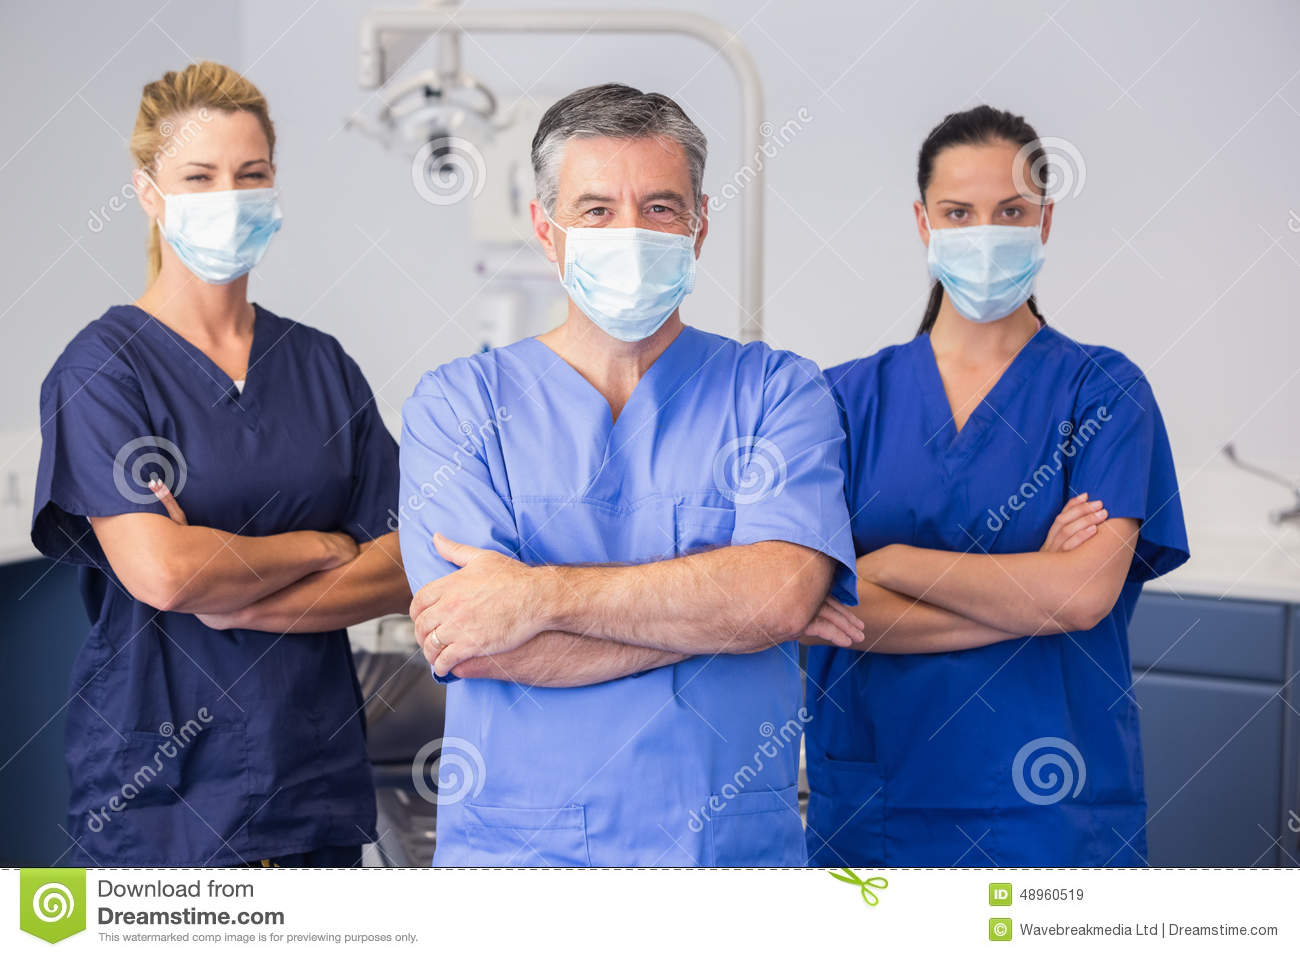mask: (560, 223, 707, 342), (920, 221, 1051, 326), (162, 191, 294, 279)
